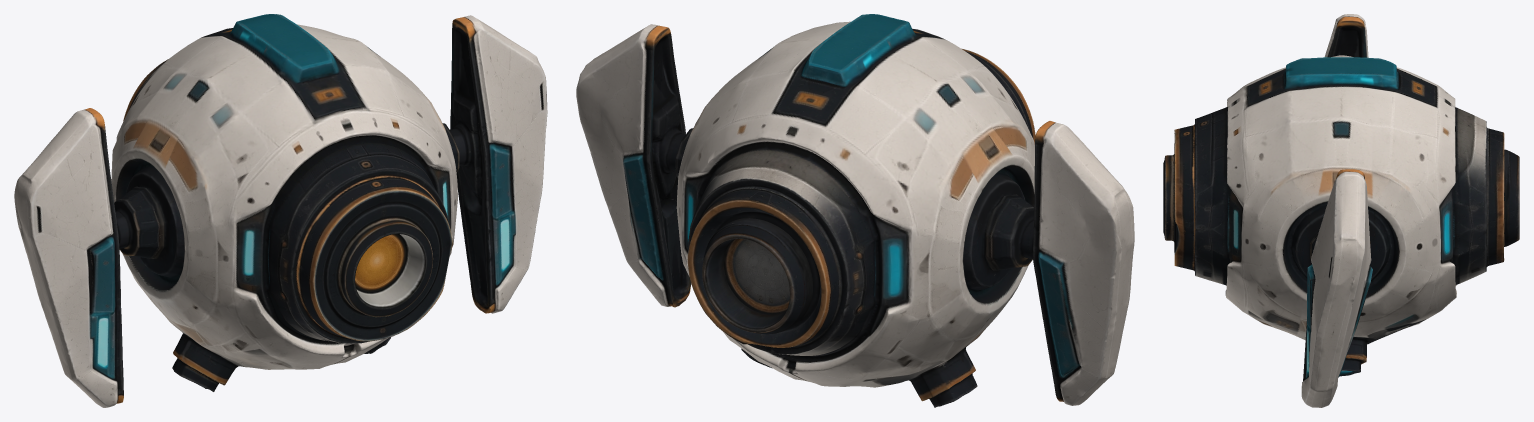
File: robot.glb
3 views of the same model, side by side, from view 1: azimuth 30°, elevation 25°; view 2: azimuth 150°, elevation 25°; view 3: azimuth 270°, elevation 25° (orthographic). The views are drawn at different scales.
Parts seen in each view (by area): view 1: Mesh_0; view 2: Mesh_0; view 3: Mesh_0.
Part boxes in pixels (bbox=[...]): Mesh_0: bbox=[14, 14, 547, 407]; Mesh_0: bbox=[576, 14, 1134, 407]; Mesh_0: bbox=[1163, 14, 1519, 407].
Bounding box in the file's own units: 1.9 × 1.17 × 1.35.
1 material, 1 textured.
